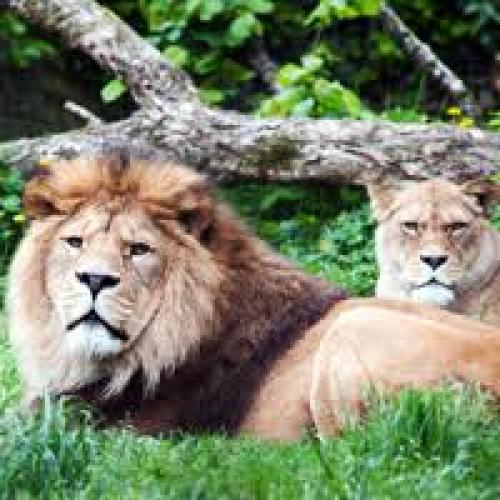lion-endangered: (10, 158, 500, 417), (359, 172, 500, 320)
